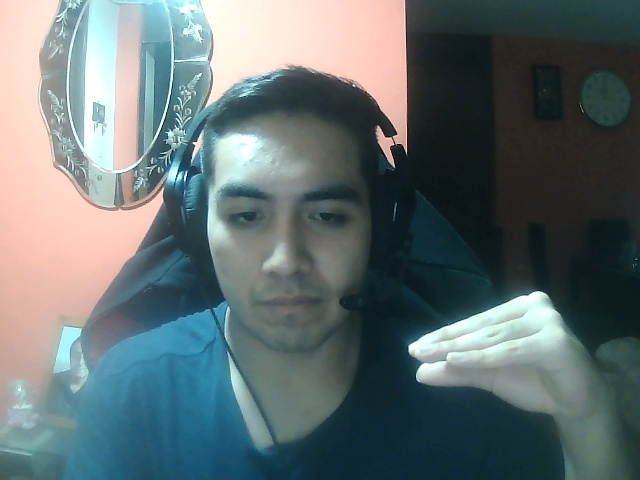no: (403, 288, 609, 419)
